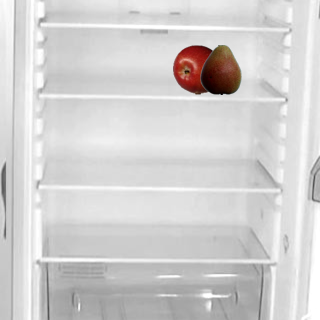Apple Braeburn: (172, 44, 222, 94)
Pear Forelle: (195, 44, 245, 94)
